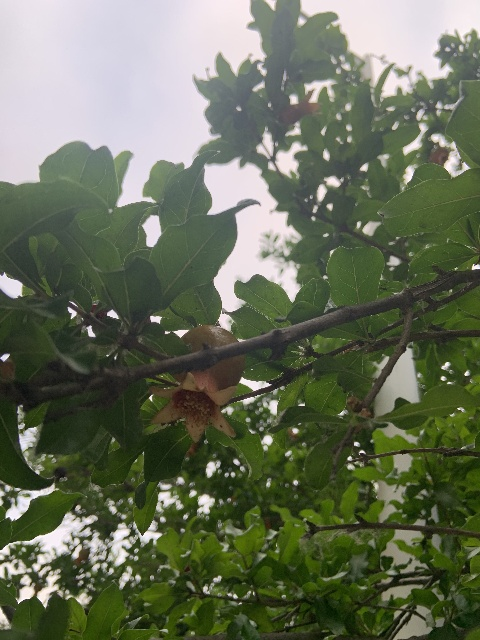early-fruit: (147, 324, 246, 446)
